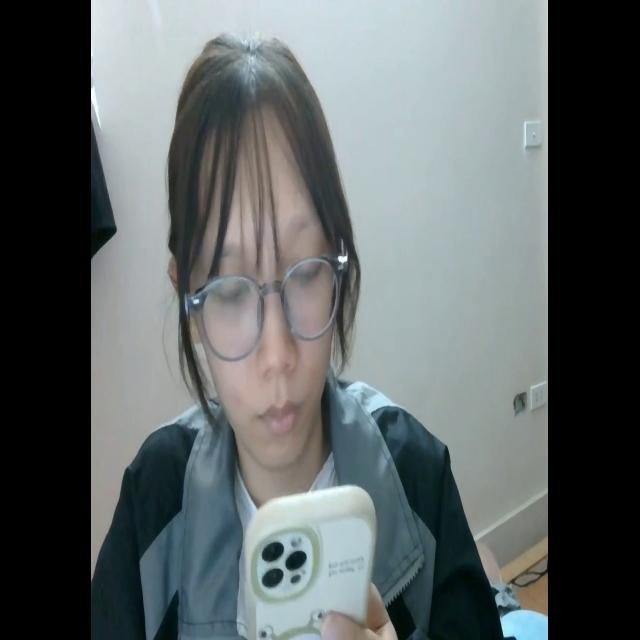phone: (240, 481, 378, 640)
student: (103, 28, 504, 640)
